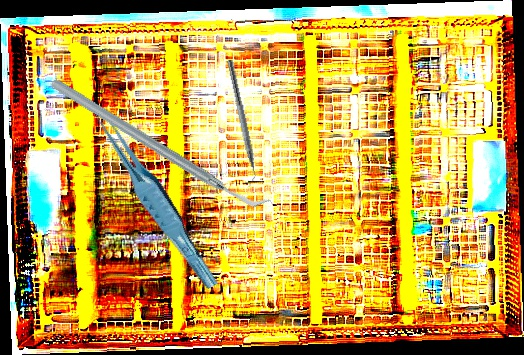Chopper: (48, 17, 273, 270), (218, 59, 262, 188)
Tissue Forceps: (92, 100, 220, 298)
